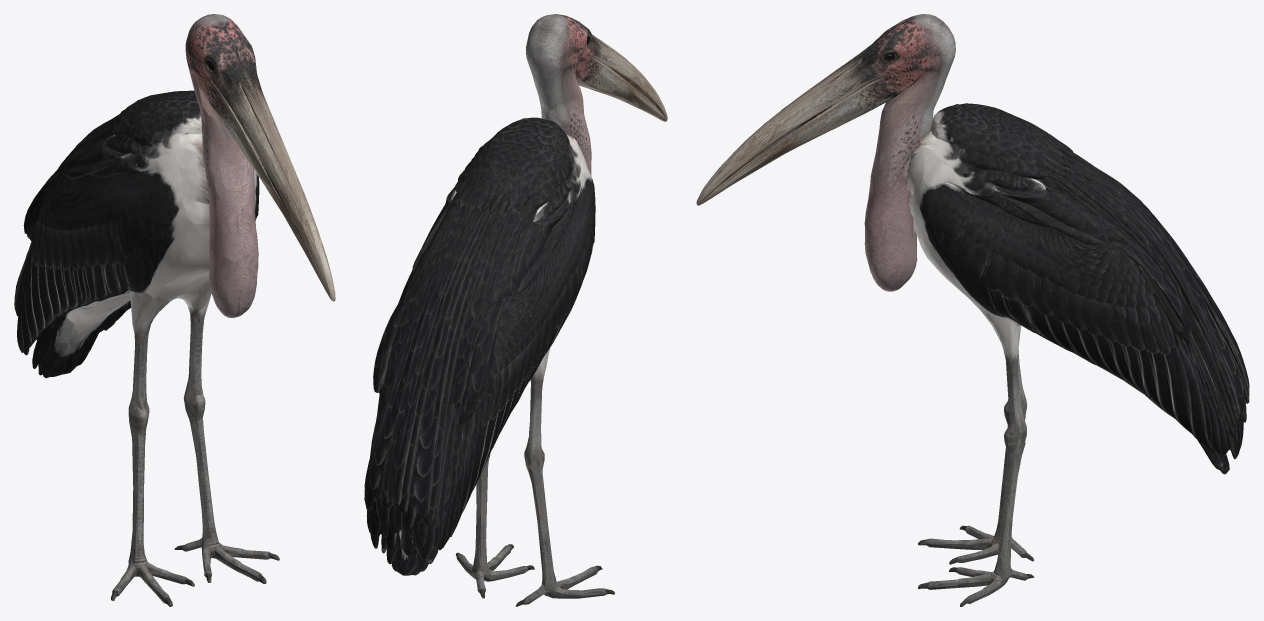
Rendered from marabou-stork.glb.
3 views of the same model, side by side, from view 1: azimuth 30°, elevation 25°; view 2: azimuth 150°, elevation 25°; view 3: azimuth 270°, elevation 25° (orthographic). The views are drawn at different scales.
Size of the model in its own units: 0.5786 by 1.9 by 1.73.
Materials: 1 (1 with a texture image).
